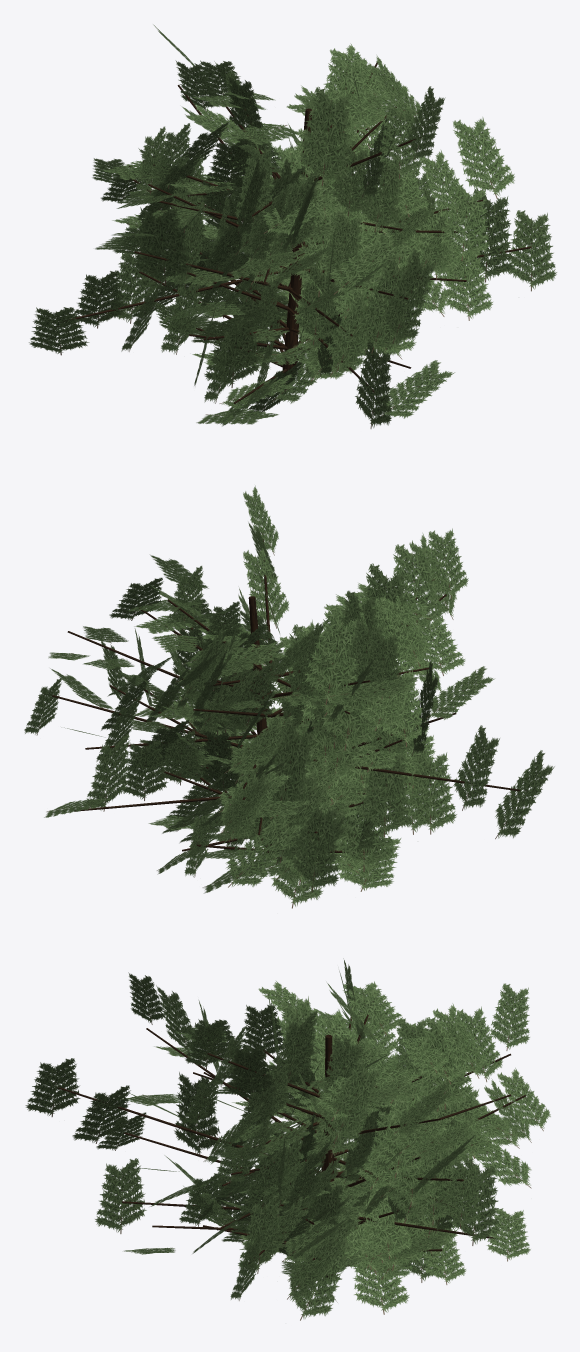
Rendered from juniper_near.glb.
The picture shows the model from 3 angles, top to bottom: view 1: azimuth 30°, elevation 25°; view 2: azimuth 150°, elevation 25°; view 3: azimuth 270°, elevation 25°; orthographic projection. The views are drawn at different scales.
Parts seen in each view (by area): view 1: juniper_near; view 2: juniper_near; view 3: juniper_near.
Boxes of the visible parts, bbox=[...] form: juniper_near: bbox=[29, 24, 556, 428]; juniper_near: bbox=[24, 485, 554, 908]; juniper_near: bbox=[25, 958, 550, 1320].
Size of the model in its own units: 4.67 by 3.07 by 4.49.
2 materials, 2 textured.
